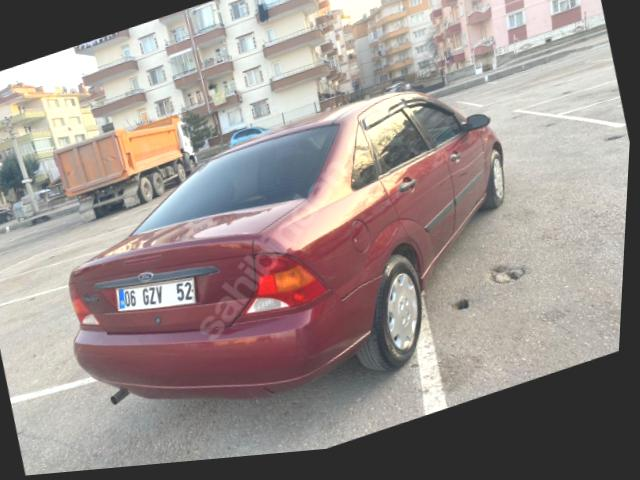plaka: (116, 277, 195, 311)
